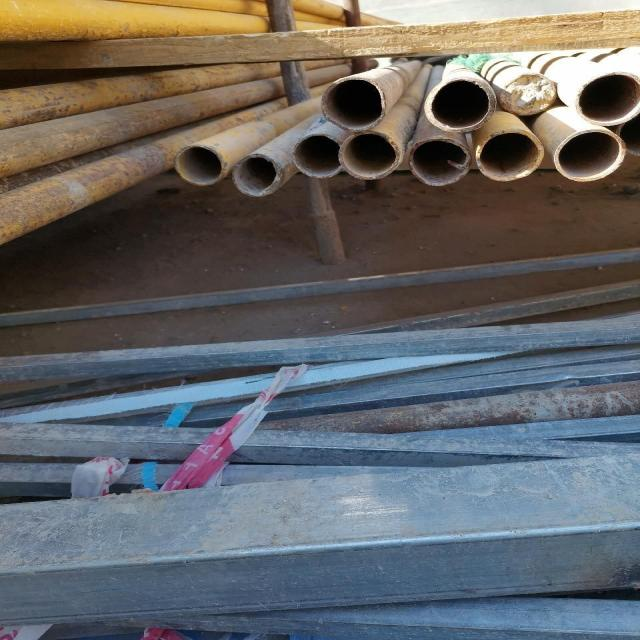pipe: (417, 72, 500, 136), (546, 128, 630, 190), (317, 72, 399, 132), (396, 134, 471, 190), (568, 70, 639, 128), (333, 130, 405, 186), (284, 126, 345, 186), (477, 132, 544, 184), (231, 144, 290, 200), (492, 68, 557, 116), (170, 140, 227, 190)
